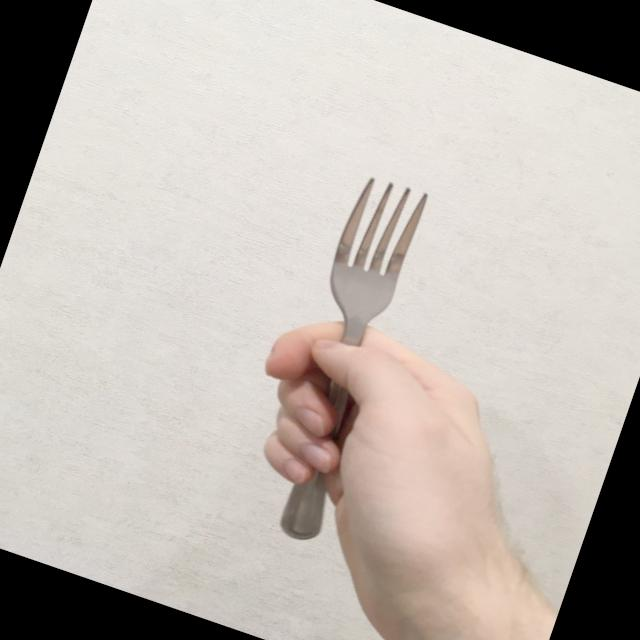fork: (240, 167, 436, 548)
